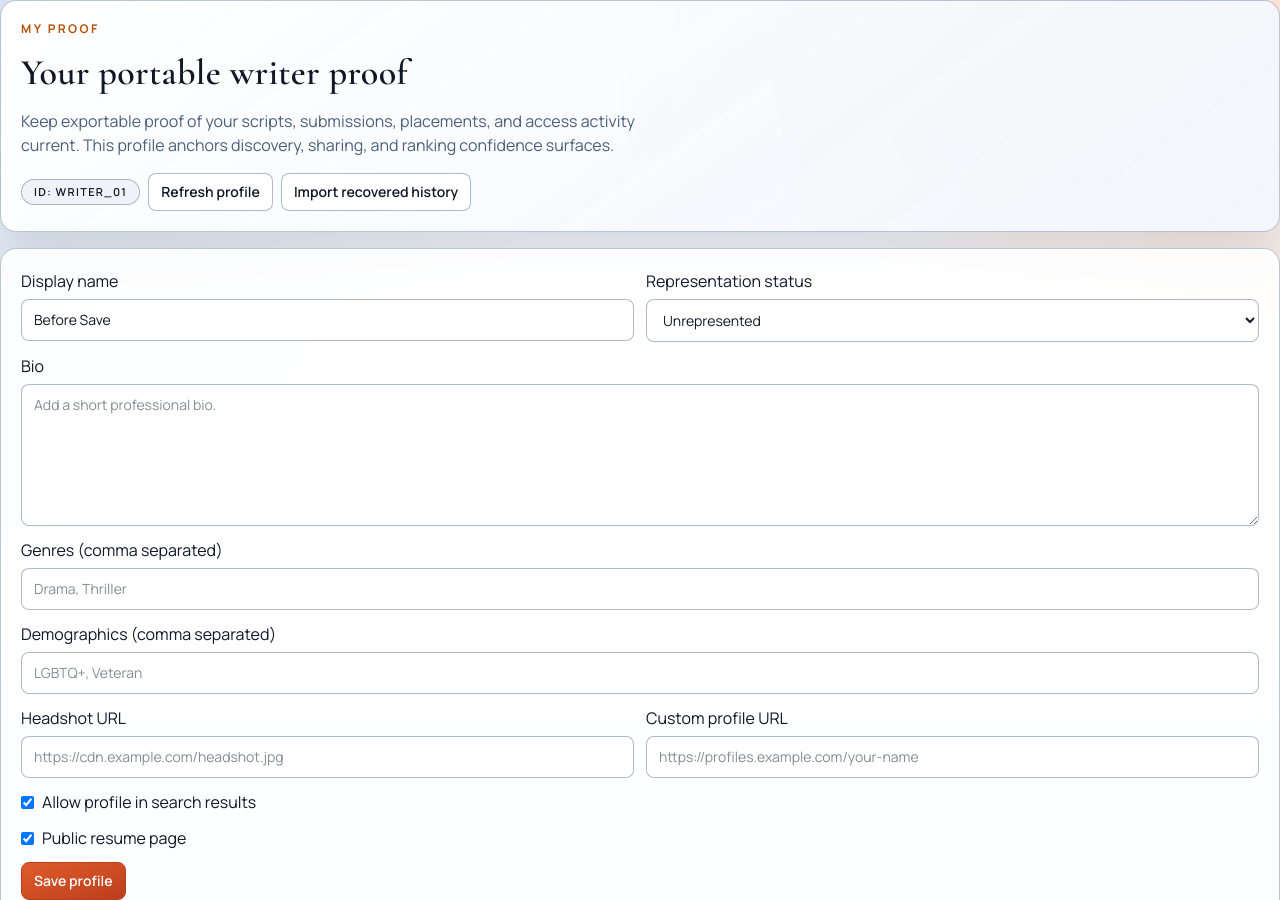
it: ProfilePage › populates cache from mutation response and renders new profile without a second GET
Expected: the field showing "Before Save" is shown, top-left (21, 299), bottom-right (634, 341)
Note: Submit without any edits to keep the test focused on cache behaviour.
What coordinates should you click on to do the following:
click the button "Save profile"
I would click on:
 (73, 881)
Its box is top-left (21, 862), bottom-right (126, 899).
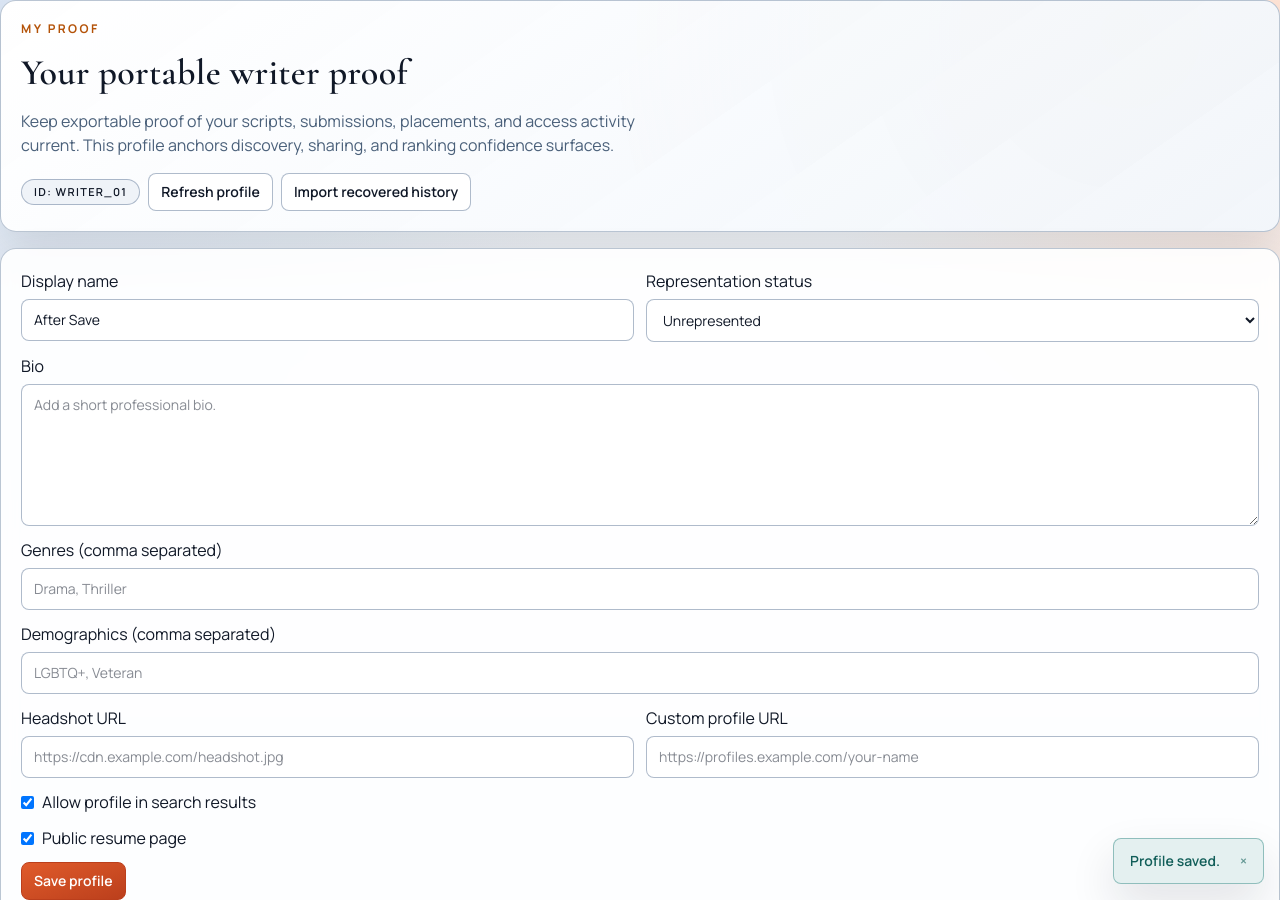
Expected: the field showing "After Save" is shown, top-left (21, 299), bottom-right (634, 341)
